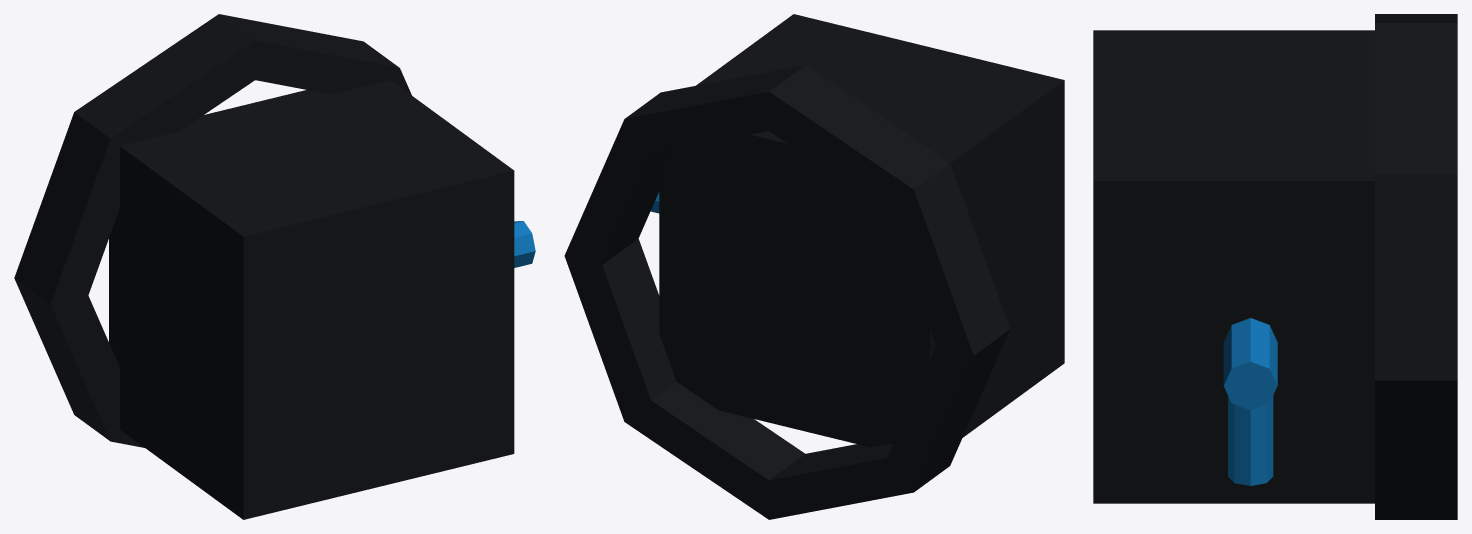
File: body.fbx
3 views of the same model, side by side, from view 1: azimuth 30°, elevation 25°; view 2: azimuth 150°, elevation 25°; view 3: azimuth 270°, elevation 25° (orthographic). The views are drawn at different scales.
Visible parts, largest first — view 1: body; view 2: body; view 3: body.
Part boxes in pixels (x1,y1,x2,y2): body: (14,14,535,519); body: (564,14,1064,519); body: (1093,14,1457,519).
Bounding box in the file's own units: 1.33 × 1.3 × 0.88.
